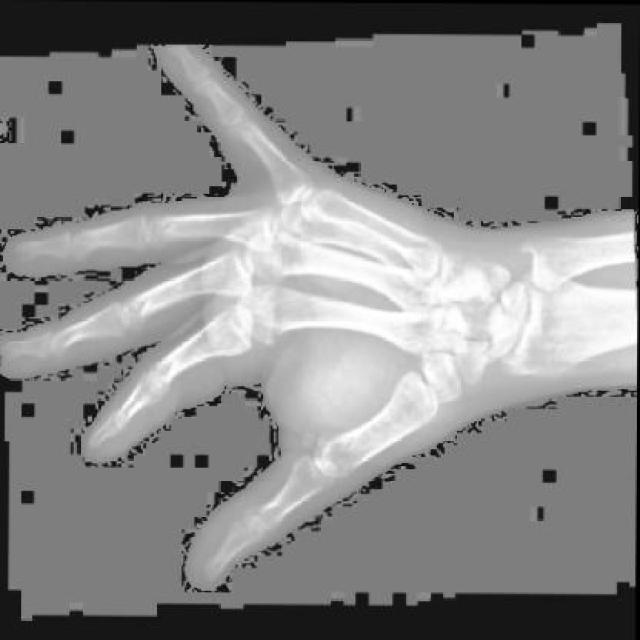Fracture: (465, 327, 501, 367)
